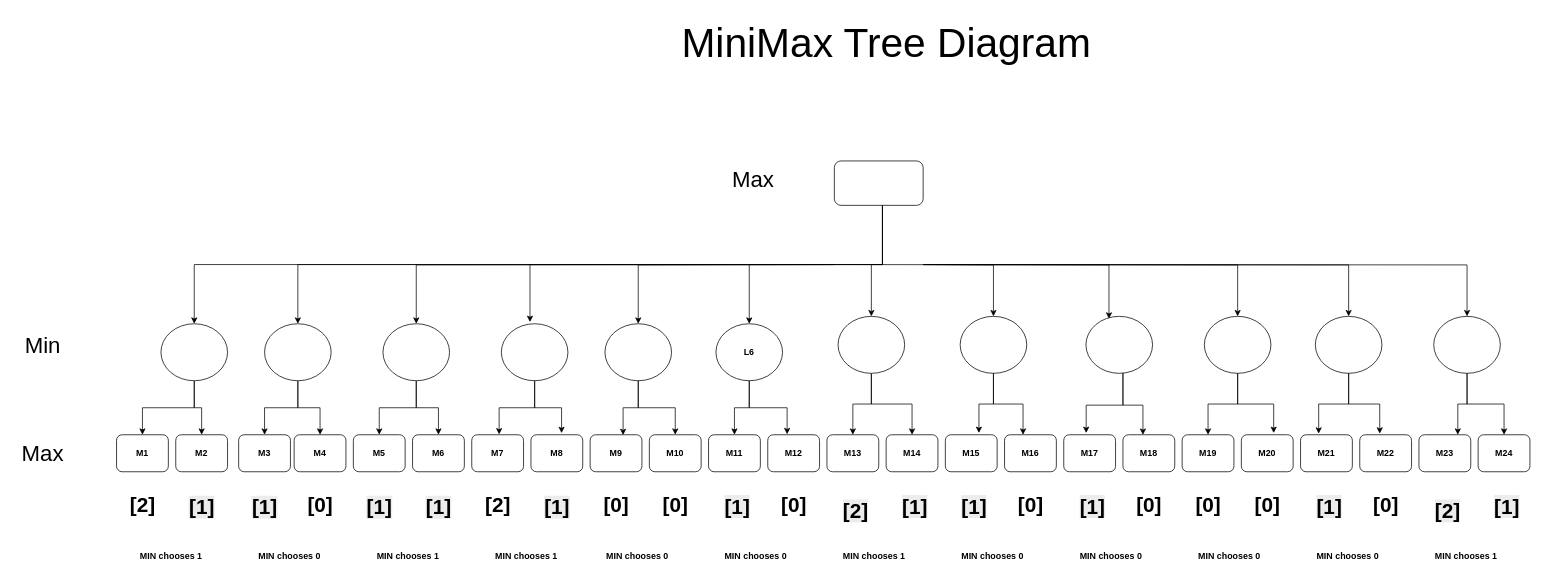
Some shapes in this 1550 by 588 pixel diagram are drawn without their labels. Here are the shapes that lost their labels. From the top down, the centre of each, then its label:
At point 878,182: "Root".
At point 194,352: "L1".
At point 297,352: "L2".
At point 416,352: "L3".
At point 534,352: "L4".
At point 638,352: "L5".
At point 871,344: "L7".
At point 993,344: "L8".
At point 1119,344: "L9".
At point 1237,344: "L10".
At point 1348,344: "L11".
At point 1466,344: "L12".
